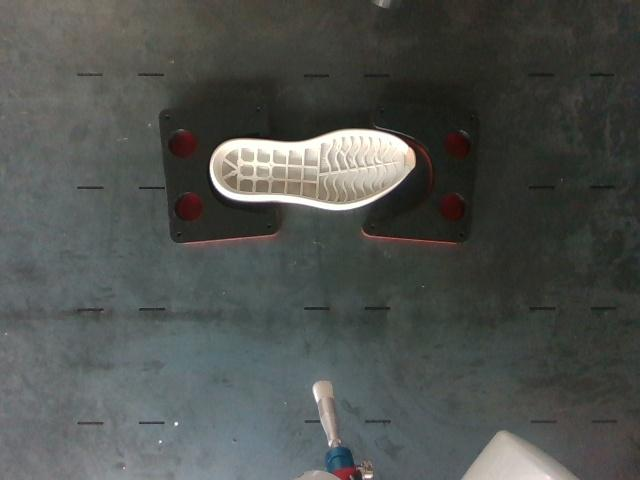shoes: (212, 130, 414, 205)
